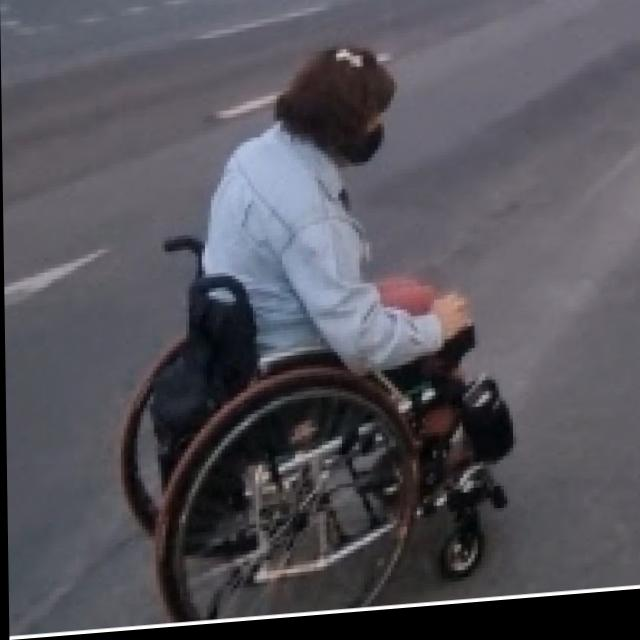wheelchair: (116, 38, 516, 631)
